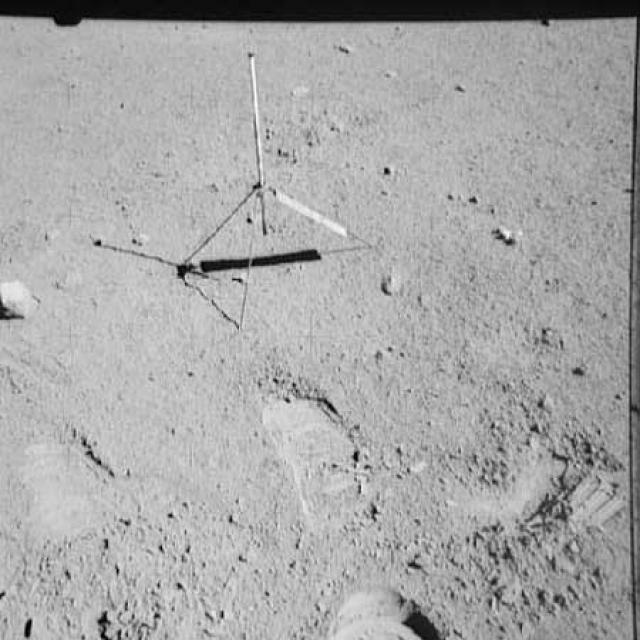artifact: (177, 50, 376, 278)
rock: (2, 269, 39, 323)
